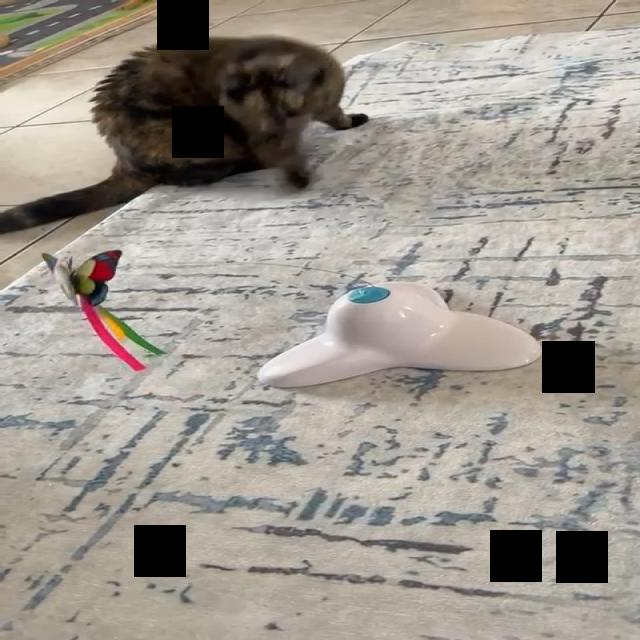authorized: (0, 34, 368, 235)
